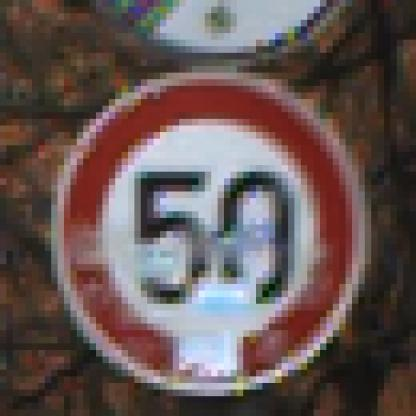Speed Limit 50: (60, 72, 357, 392)
